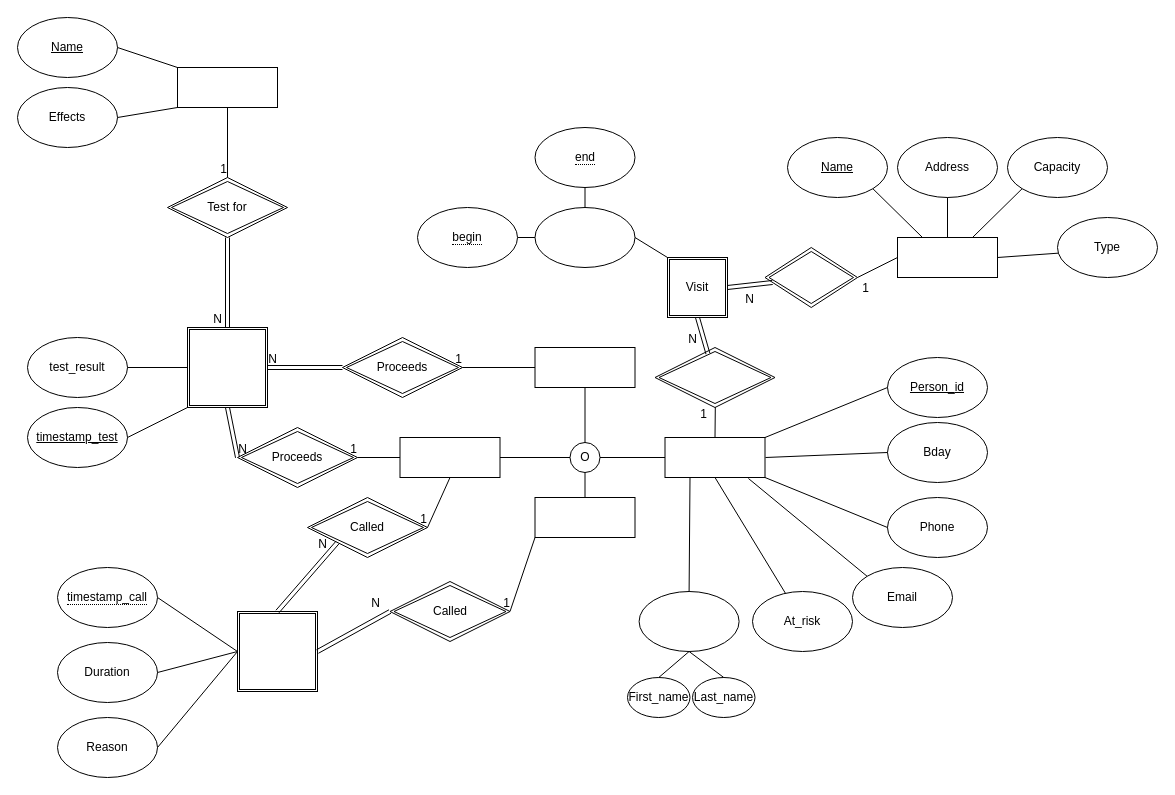
Some shapes in this 1175 by 795 pixel diagram are drawn without their labels. The box of each missing label's shape, as (x1, y1, x2, y2) in pixels:
Call: (236, 610, 318, 692)
Call centerist: (534, 496, 635, 538)
Disease: (176, 66, 278, 108)
Full name: (638, 590, 739, 652)
is place of: (764, 246, 858, 308)
Patient: (399, 436, 500, 478)
Person: (664, 436, 765, 478)
Place: (896, 236, 998, 278)
Practioner: (534, 346, 635, 388)
Test: (186, 326, 268, 408)
visit_timestamp: (534, 206, 635, 268)
was: (654, 346, 775, 408)
